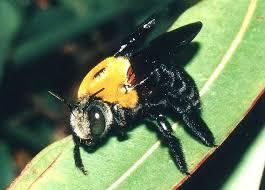Xylocopa: (47, 14, 221, 170)
